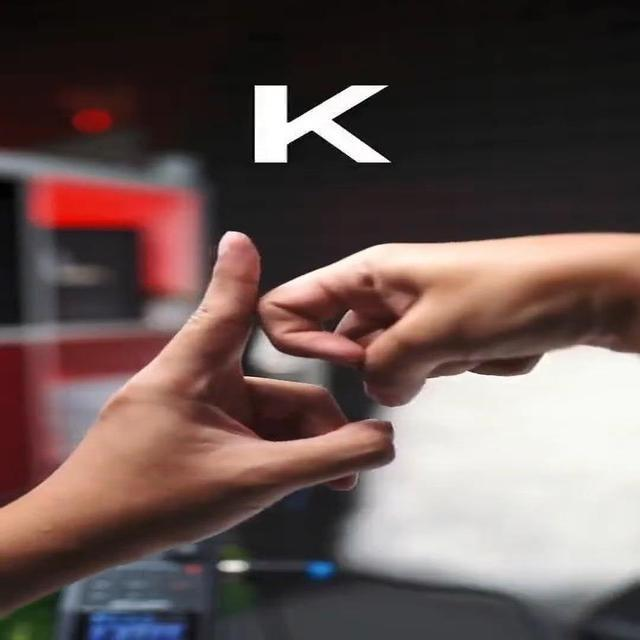K: (106, 214, 468, 509)
